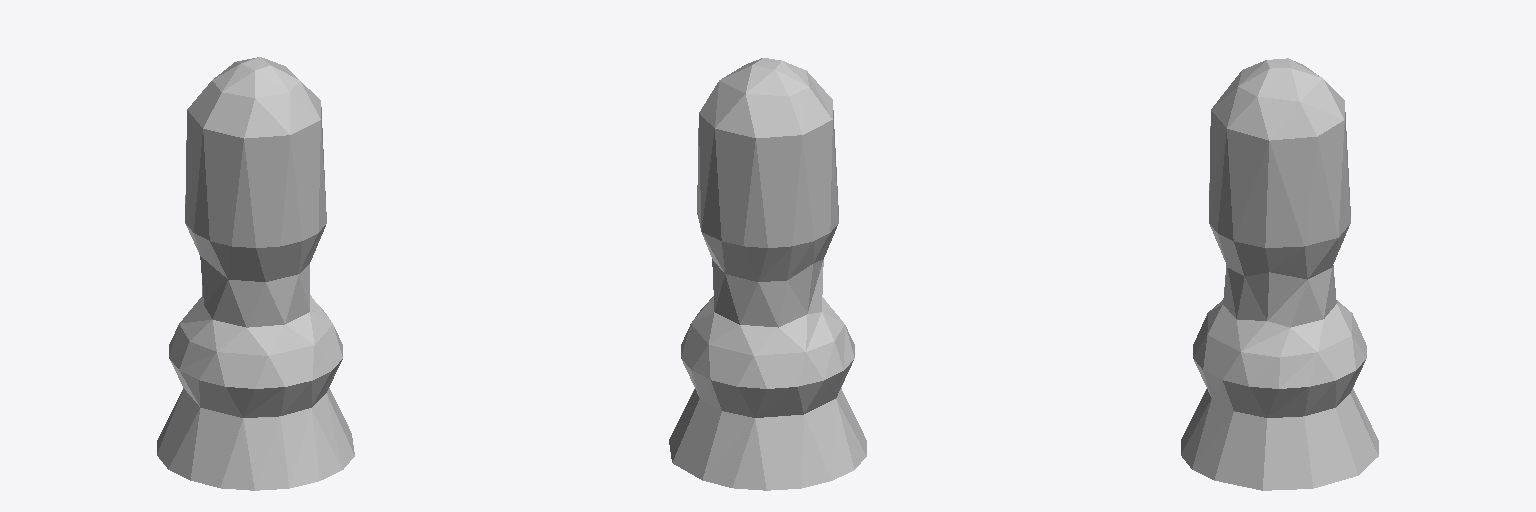
Rendered from light_1.obj.
The picture shows the model from 3 angles: view 1: azimuth 30°, elevation 25°; view 2: azimuth 150°, elevation 25°; view 3: azimuth 270°, elevation 25°; orthographic projection.
Visible parts, largest first — view 1: Cylinder001_Untitled; view 2: Cylinder001_Untitled; view 3: Cylinder001_Untitled.
Boxes of the visible parts, box(x1,y1,x2,y2) form: Cylinder001_Untitled: box(157, 57, 354, 490); Cylinder001_Untitled: box(669, 58, 866, 490); Cylinder001_Untitled: box(1181, 58, 1378, 490).
Size of the model in its own units: 0.2348 by 0.4952 by 0.2317.